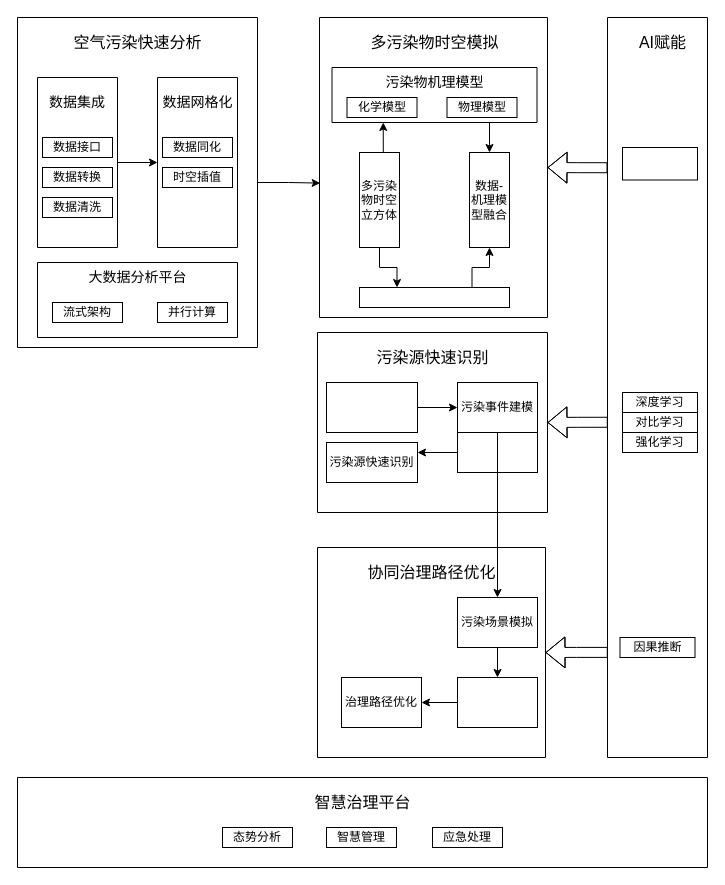
Some shapes in this 725 by 885 pixel diagram are drawn without their labels. Here are the shapes that lost their labels. From the top down, the centre of each, then its label:
the point at 660,163: 机器学习 可解释性
the point at 434,297: 数据挖掘
the point at 372,407: 污染物时空动态规律
the point at 477,452: 卡尔曼滤波
the point at 517,452: LSTM
the point at 497,702: 政策效应分析
